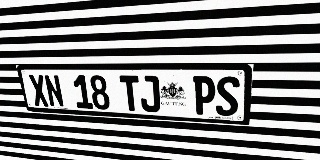1: (71, 75, 93, 109)
8: (89, 75, 110, 110)
J: (139, 76, 160, 112)
N: (43, 75, 65, 107)
P: (193, 76, 216, 115)
S: (215, 76, 240, 117)
T: (119, 75, 141, 111)
X: (28, 75, 50, 107)
